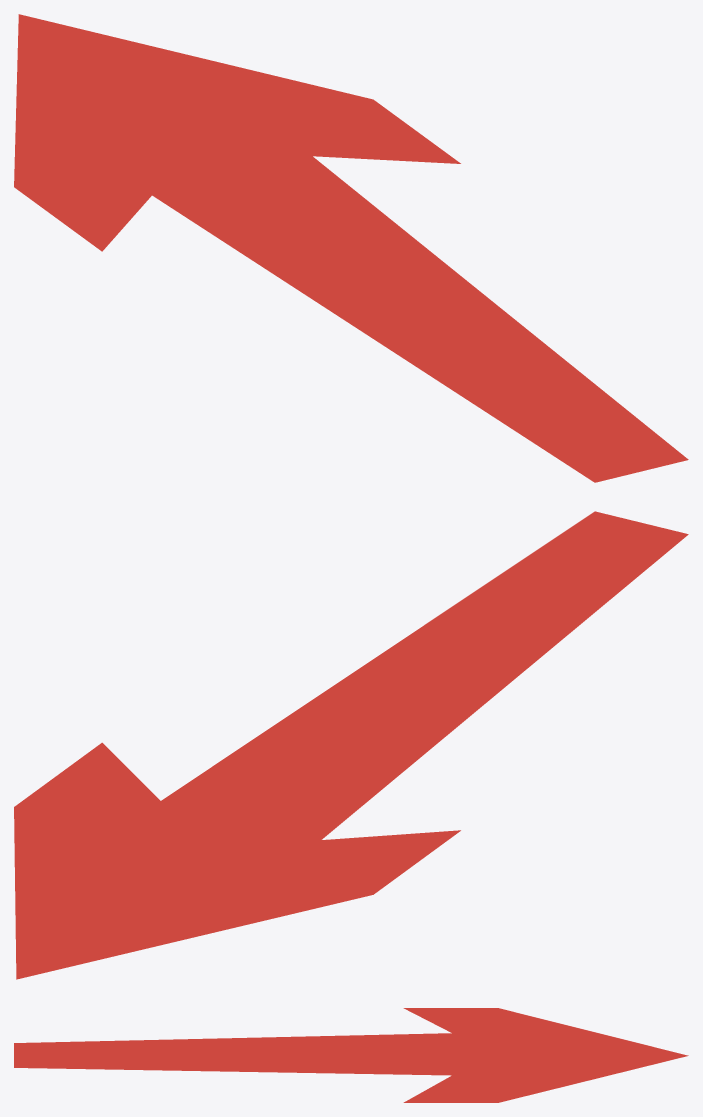
Rendered from arrow.glb.
3 renders of one model, top to bottom at view 1: azimuth 30°, elevation 25°; view 2: azimuth 150°, elevation 25°; view 3: azimuth 270°, elevation 25°, orthographic. The views are drawn at different scales.
Visible parts, largest first — view 1: Plane; view 2: Plane; view 3: Plane.
Boxes of the visible parts, x1,y1,x2,y2 form: Plane: (14,14,688,482); Plane: (14,511,688,979); Plane: (14,1008,688,1102).
Bounding box in the file's own units: 1.39 × 0 × 4.18.
